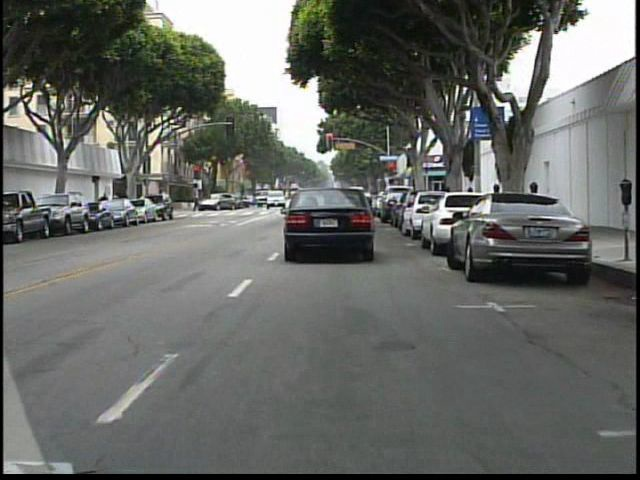person: (98, 189, 114, 222), (189, 189, 207, 215)
